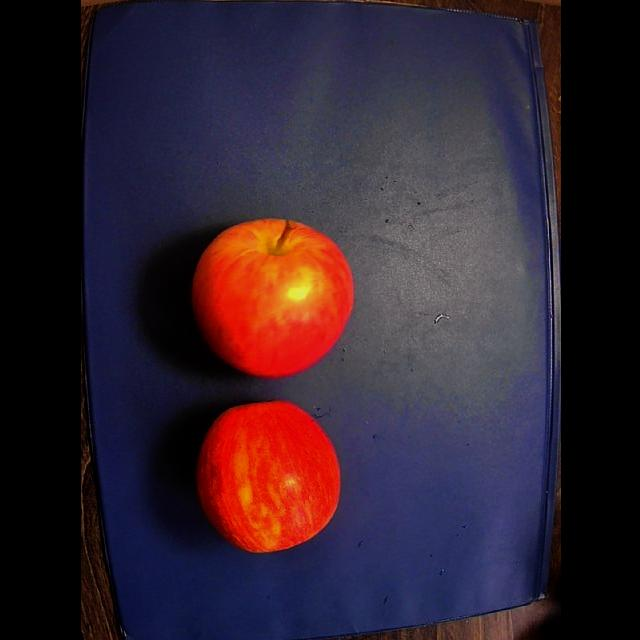manzana: (191, 218, 352, 378), (196, 401, 339, 552)
